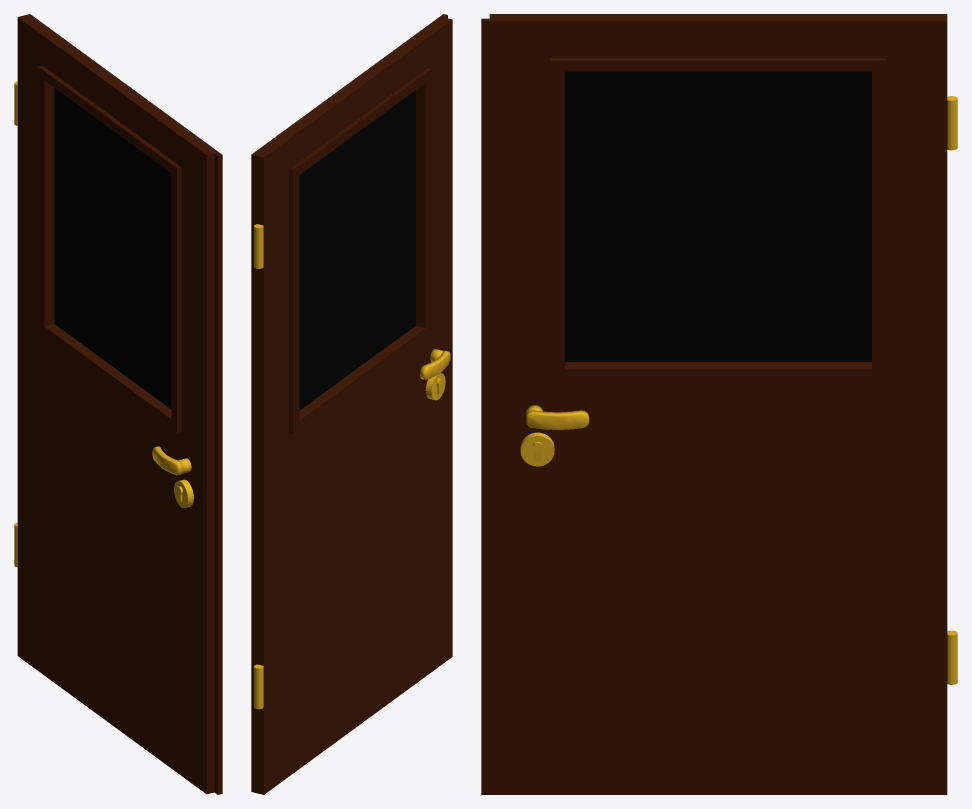
The model's file is dzi_hotfix.fbx.
3 views of the same model, side by side, from view 1: azimuth 30°, elevation 25°; view 2: azimuth 150°, elevation 25°; view 3: azimuth 270°, elevation 25° (orthographic). The views are drawn at different scales.
Visible parts, largest first — view 1: Cylinder; view 2: Cylinder; view 3: Cylinder.
Part boxes in pixels (x1,y1,x2,y2): Cylinder: (14, 14, 222, 794); Cylinder: (251, 14, 452, 794); Cylinder: (481, 14, 957, 794).
Bounding box in the file's own units: 28.51 × 373 × 208.
3 materials, 1 textured.
